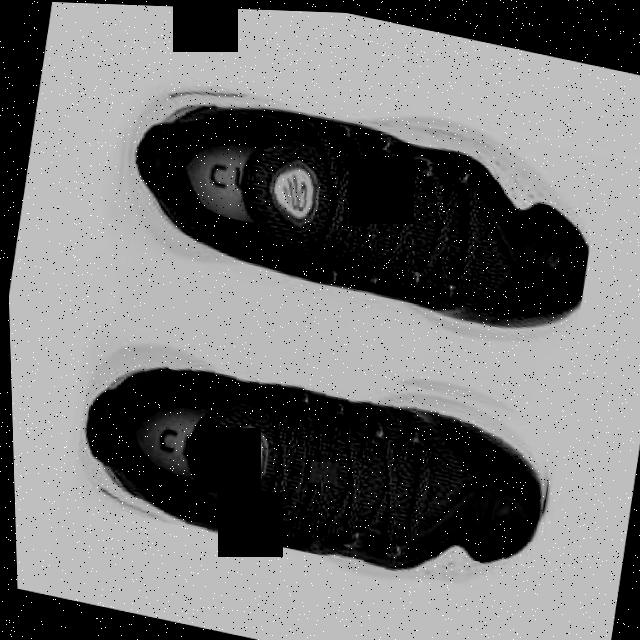shoe: (95, 47, 607, 356), (62, 303, 565, 597)
